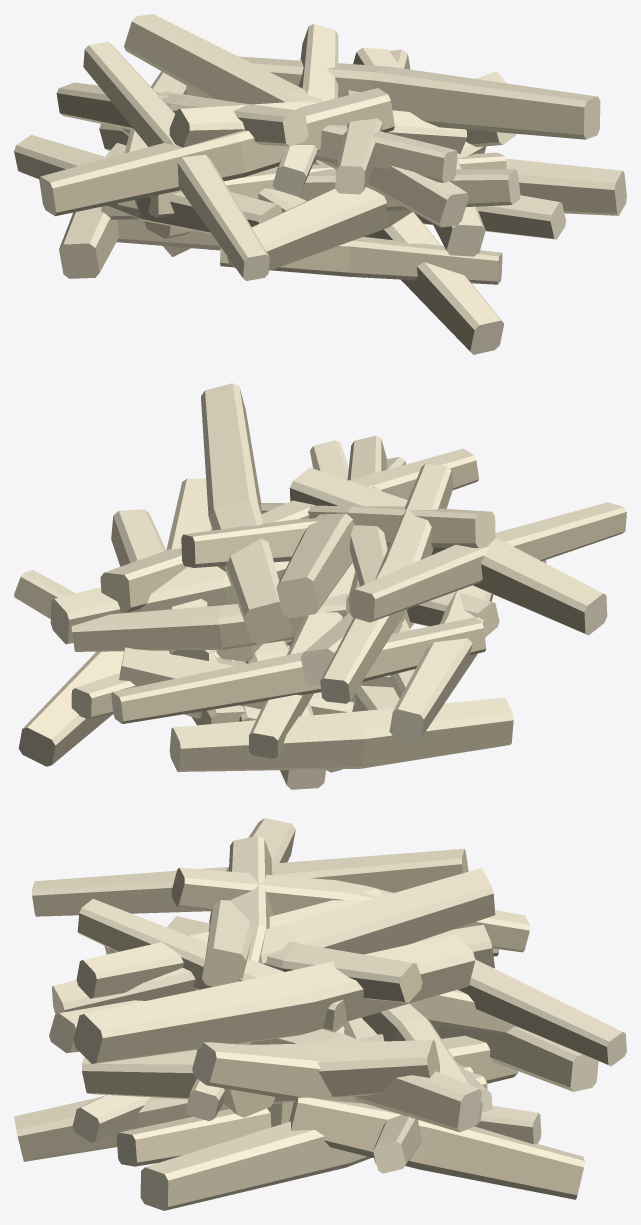
The model's file is frozen_fries.glb.
The picture shows the model from 3 angles, top to bottom: view 1: azimuth 30°, elevation 25°; view 2: azimuth 150°, elevation 25°; view 3: azimuth 270°, elevation 25°; orthographic projection. The views are drawn at different scales.
Parts seen in each view (by area): view 1: Frozen fries for the fryer; view 2: Frozen fries for the fryer; view 3: Frozen fries for the fryer.
Boxes of the visible parts, bbox=[...] form: Frozen fries for the fryer: bbox=[14, 14, 626, 354]; Frozen fries for the fryer: bbox=[14, 383, 626, 789]; Frozen fries for the fryer: bbox=[14, 818, 626, 1210].
Bounding box in the file's own units: 0.1414 × 0.0556 × 0.1339.
